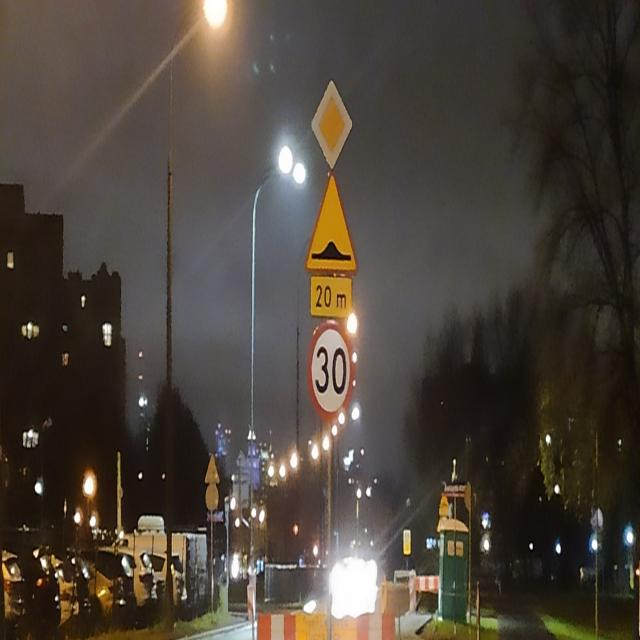Speed Limit -30-: (315, 345, 346, 395)
